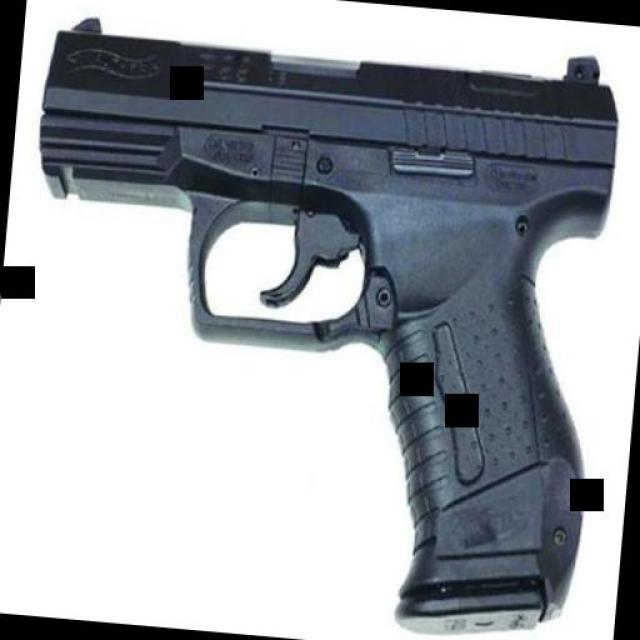gun: (1, 10, 626, 635)
